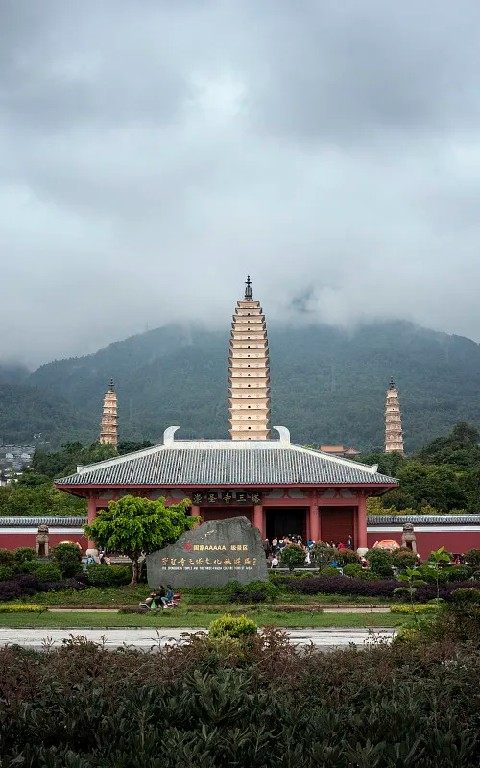ThreePagoda: (227, 276, 270, 441)
